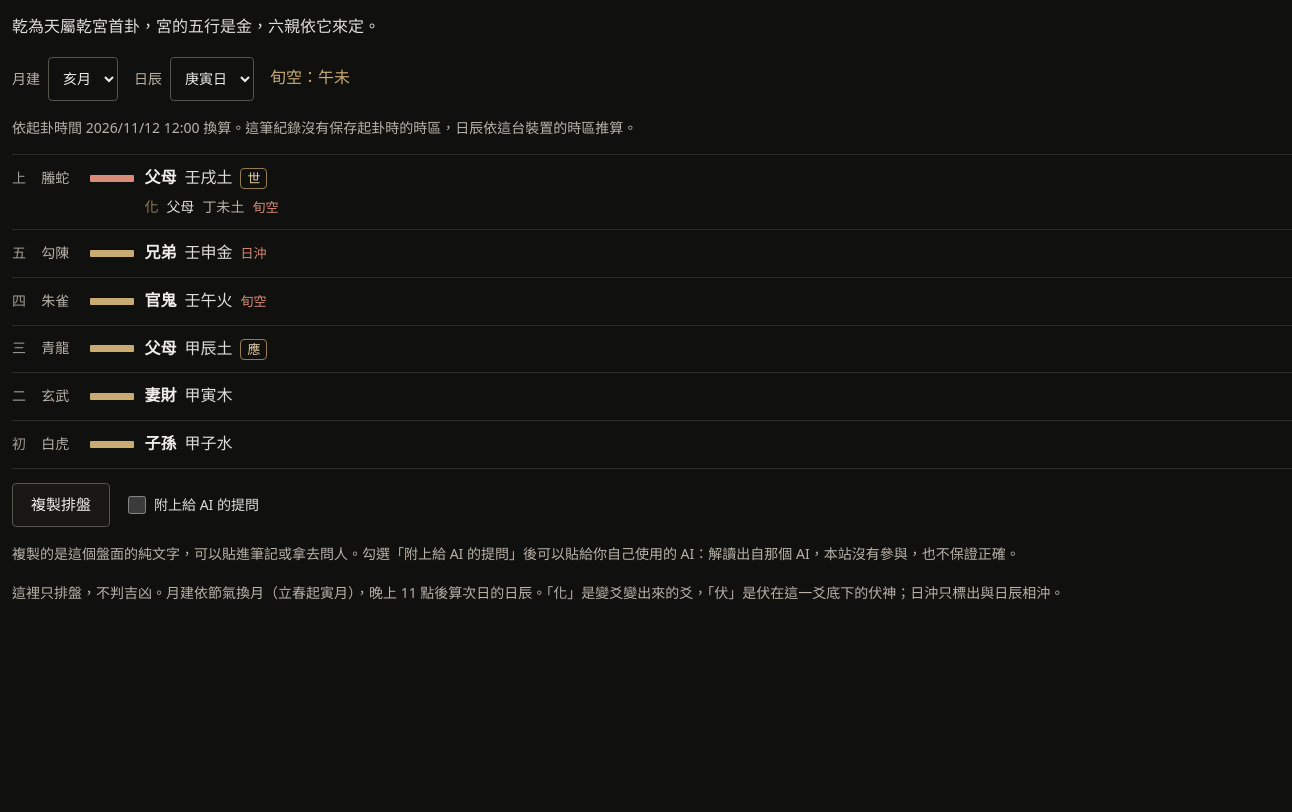
it: 納甲六爻盤 › 改成辰月戊子日：上爻月破、化出的未土旬空、朱雀在上爻（《增刪卜易》乾之夬）
Select "辰月" in the dropdown labelled "月建". click: (83, 79)
box: [48,57,118,101]
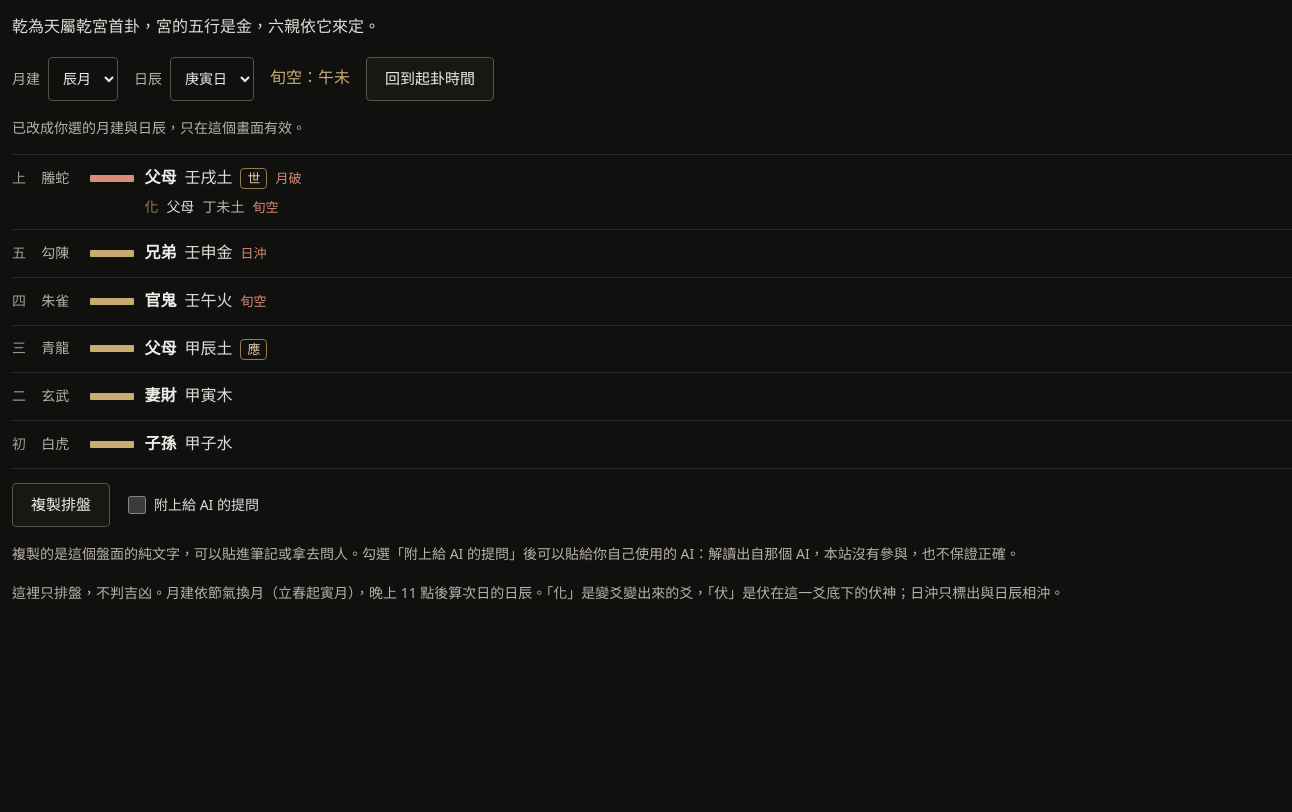
Select "戊子日" in the dropdown labelled "日辰". click: (212, 79)
box: [170,57,254,101]
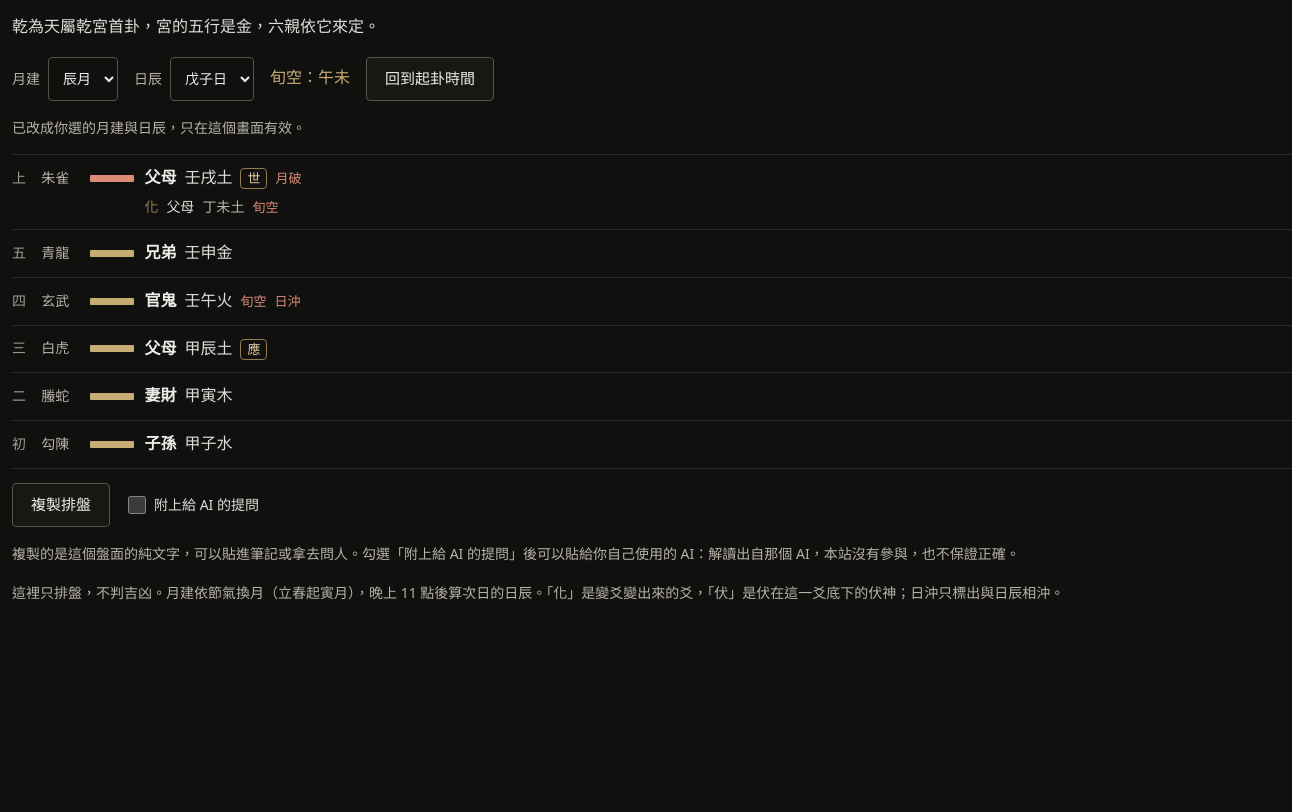
expect the text "旬空：午未" is shown: met, box [270,69,350,86]
expect the list item "上 朱雀 父母 壬戌土 世 月破 化 父母 丁未土 旬空" is shown: met, box [12,154,1291,229]
Click the button "回到起卦時間". click: (430, 79)
box: [366,57,494,101]
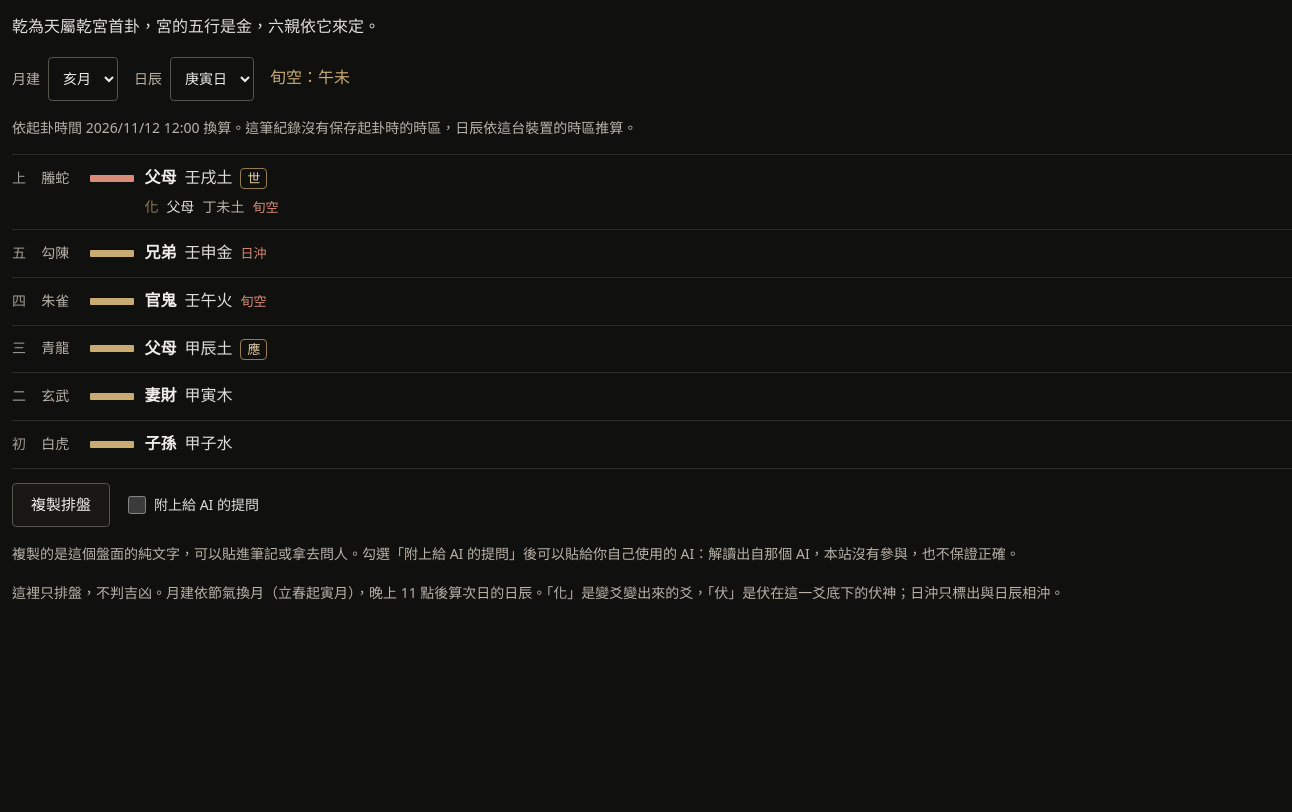
expect the button "回到起卦時間" is gone: met
